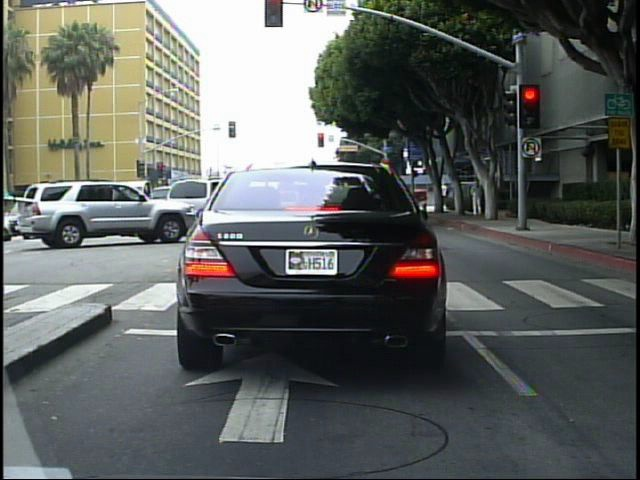person: (469, 179, 484, 217), (633, 166, 638, 273), (437, 179, 451, 213), (635, 167, 638, 272)
